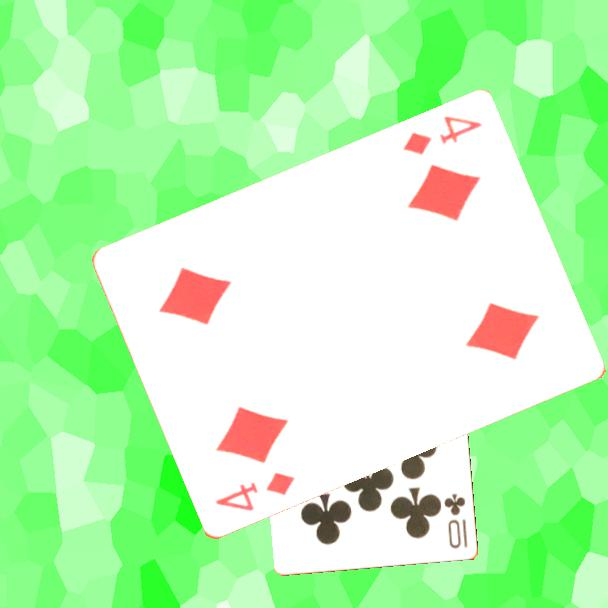c10: (441, 490, 471, 551)
d04: (211, 469, 298, 515), (398, 113, 485, 159)
